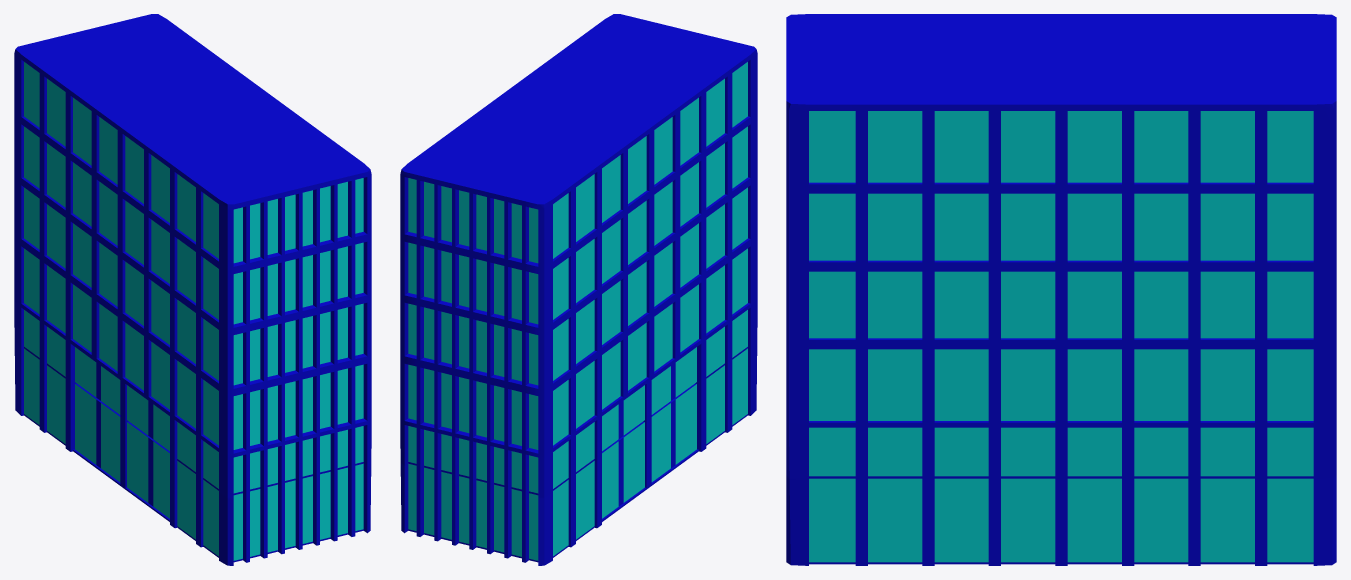
Rendered from Building_14.fbx.
3 views of the same model, side by side, from view 1: azimuth 30°, elevation 25°; view 2: azimuth 150°, elevation 25°; view 3: azimuth 270°, elevation 25° (orthographic). The views are drawn at different scales.
Visible parts, largest first — view 1: Building_14; view 2: Building_14; view 3: Building_14.
Part boxes in pixels (x1=…): Building_14: x1=14, y1=14, x2=371, y2=565; Building_14: x1=400, y1=14, x2=757, y2=565; Building_14: x1=786, y1=14, x2=1336, y2=565.
Size of the model in its own units: 87.16 by 207 by 224.
